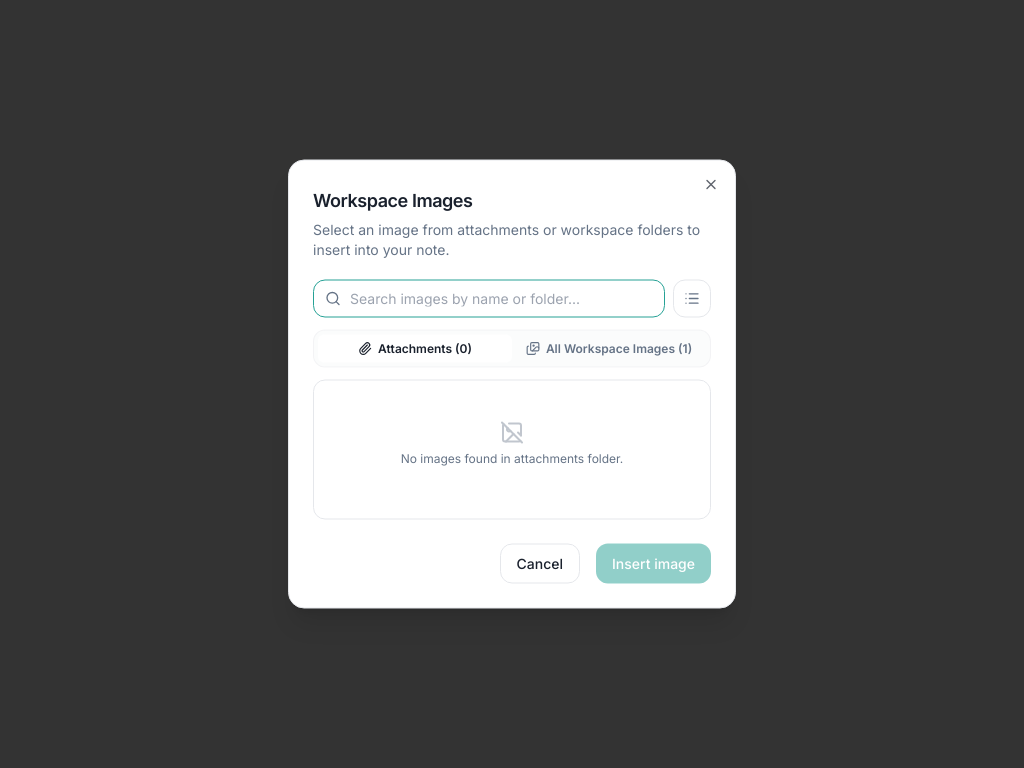
Scenario: WorkspaceMediaPickers - Image & Video Thumbnail Previews › Root folder display in Media Picker Dialogs › displays Root or หน้าหลัก instead of '/' for root-level items in WorkspaceImagePickerDialog
Step 1. Click the button "All Workspace Images (1)" → coordinates (609, 348), box [512, 334, 706, 362]
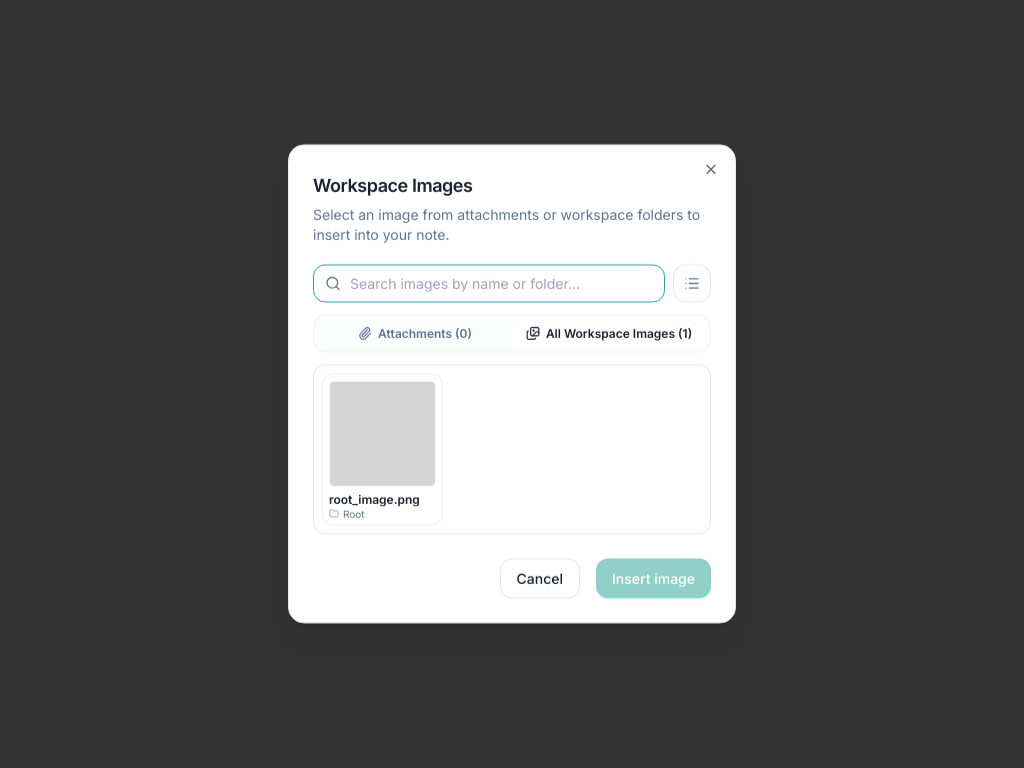
Result: the text "root_image.png" is shown at [329, 492, 420, 507]
Result: the text "Root" is shown at [343, 509, 365, 519]
